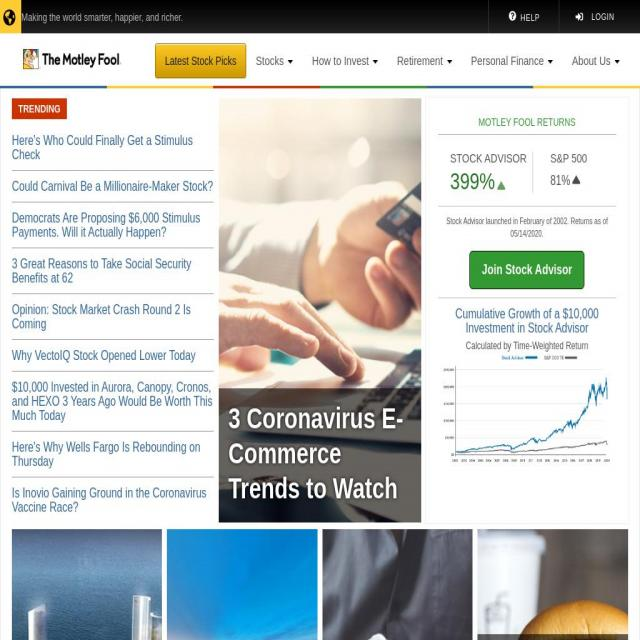list: (8, 125, 218, 521)
login-option: (567, 2, 627, 28)
navigation-blocks: (10, 532, 630, 638)
navigation-links: (7, 129, 213, 527), (149, 40, 622, 79)
